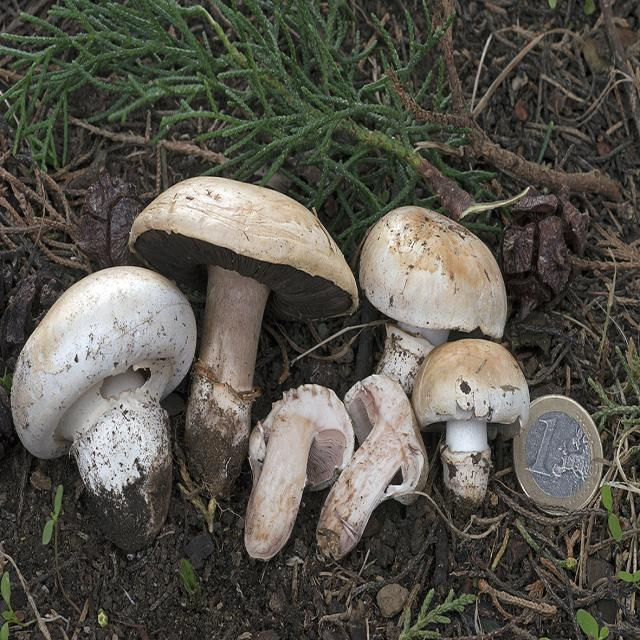field-mushroom: (128, 176, 360, 534), (10, 267, 200, 521), (357, 207, 509, 393), (316, 375, 425, 563), (411, 339, 530, 507)
